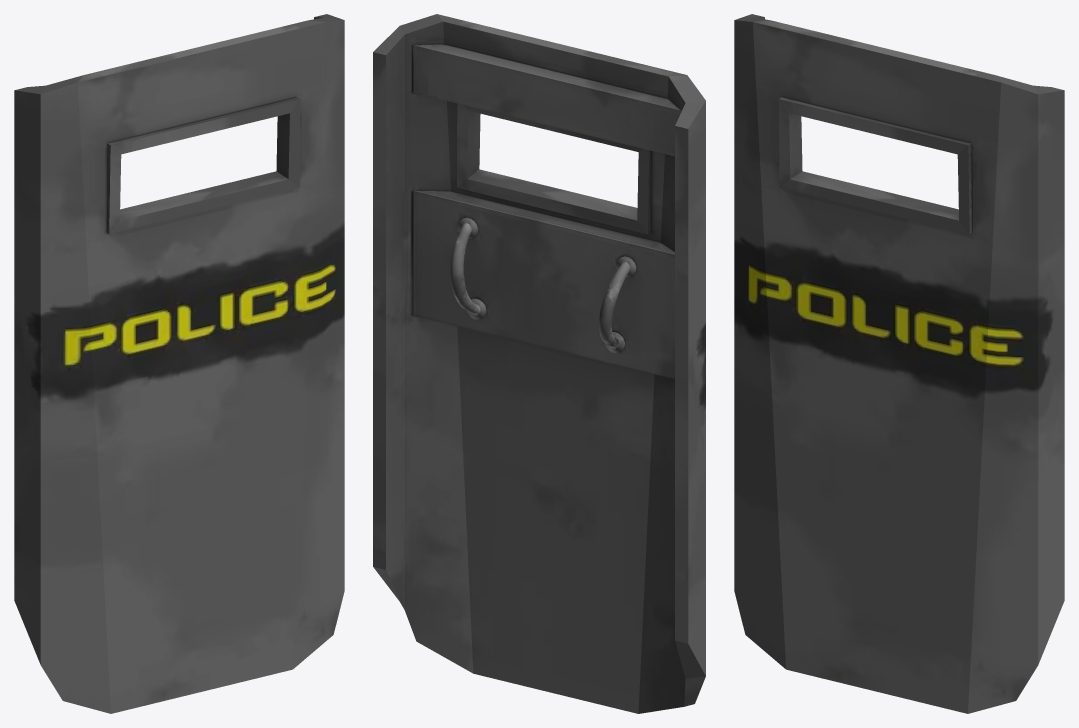
File: shield.glb
3 views of the same model, side by side, from view 1: azimuth 30°, elevation 25°; view 2: azimuth 150°, elevation 25°; view 3: azimuth 330°, elevation 25° (orthographic).
Visible parts, largest first — view 1: RiotShield.001; view 2: RiotShield.001; view 3: RiotShield.001.
Part boxes in pixels (<box>): RiotShield.001: <box>14,14,344,713</box>; RiotShield.001: <box>373,14,705,713</box>; RiotShield.001: <box>734,14,1064,713</box>.
Size of the model in its own units: 1.94 by 3.8 by 0.4033.
Materials: 1 (1 with a texture image).
